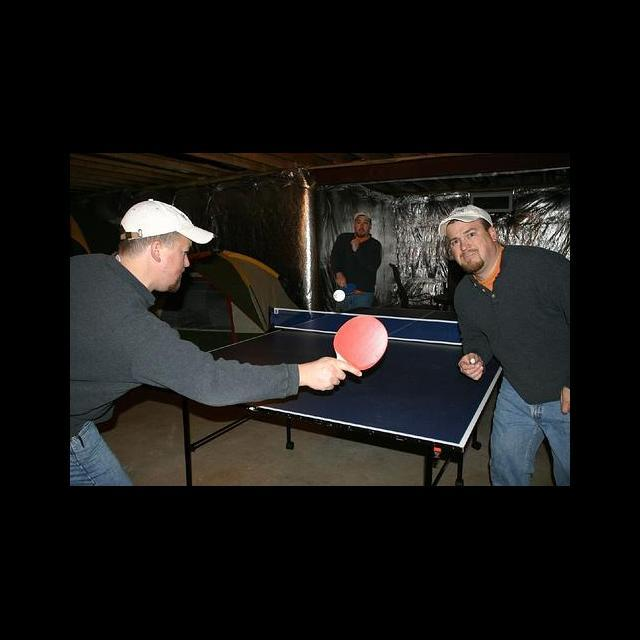ping-pong-ball: (332, 290, 347, 302)
